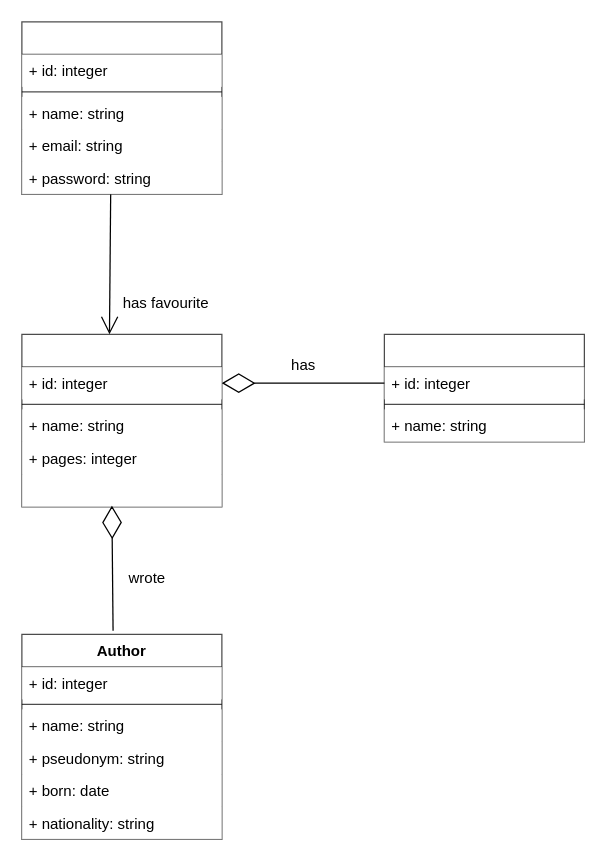
Some shapes in this 606 by 865 pixel diagram are drawn without their labels. The box of each missing label's shape, as (x1, y1, x2, y2) in pixels:
+ translated_by: string: (21, 474, 221, 506)
Book: (21, 333, 222, 507)
Genre: (383, 333, 584, 442)
User: (21, 21, 222, 194)
